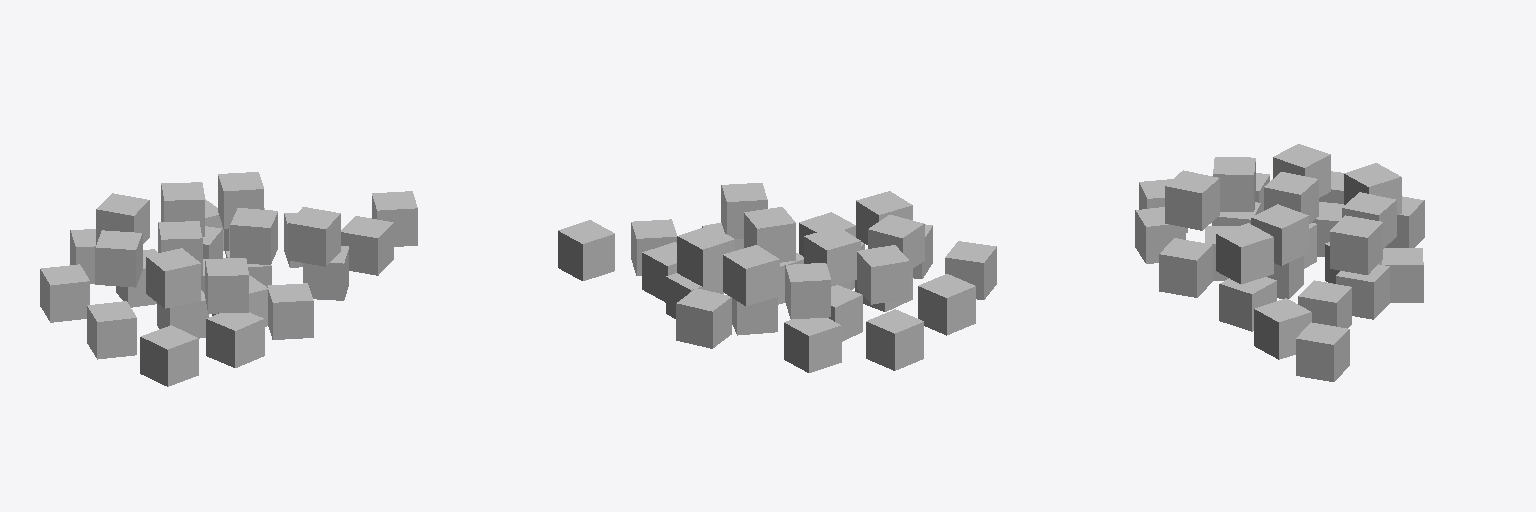
Rendered from potato_chop_3.obj.
3 renders of one model, left to right at view 1: azimuth 30°, elevation 25°; view 2: azimuth 150°, elevation 25°; view 3: azimuth 270°, elevation 25°, orthographic.
Parts seen in each view (by area): view 1: group5 Potatoe_chop_3 Potatoe1 pCube43, group5 Potatoe_chop_3 Potatoe1 pCube28, group5 Potatoe_chop_3 Potatoe1 pCube41, group5 Potatoe_chop_3 Potatoe1 pCube82, group5 Potatoe_chop_3 Potatoe1 pCube40, group5 Potatoe_chop_3 Potatoe1 pCube37, group5 Potatoe_chop_3 Potatoe1 pCube38, group5 Potatoe_chop_3 Potatoe1 pCube81, group5 Potatoe_chop_3 Potatoe1 pCube29, group5 Potatoe_chop_3 Potatoe1 pCube76, group5 Potatoe_chop_3 Potatoe1 pCube42, group5 Potatoe_chop_3 Potatoe1 pCube36 (+10 smaller); view 2: group5 Potatoe_chop_3 Potatoe1 pCube37, group5 Potatoe_chop_3 Potatoe1 pCube40, group5 Potatoe_chop_3 Potatoe1 pCube44, group5 Potatoe_chop_3 Potatoe1 pCube80, group5 Potatoe_chop_3 Potatoe1 pCube46, group5 Potatoe_chop_3 Potatoe1 pCube79, group5 Potatoe_chop_3 Potatoe1 pCube38, pCube83 group5 Potatoe_chop_3 Potatoe1, group5 Potatoe_chop_3 Potatoe1 pCube36, group5 Potatoe_chop_3 Potatoe1 pCube39, group5 Potatoe_chop_3 Potatoe1 pCube76, group5 Potatoe_chop_3 Potatoe1 pCube43 (+9 smaller); view 3: group5 Potatoe_chop_3 Potatoe1 pCube82, group5 Potatoe_chop_3 Potatoe1 pCube42, group5 Potatoe_chop_3 Potatoe1 pCube29, group5 Potatoe_chop_3 Potatoe1 pCube80, pCube83 group5 Potatoe_chop_3 Potatoe1, group5 Potatoe_chop_3 Potatoe1 pCube81, group5 Potatoe_chop_3 Potatoe1 pCube76, group5 Potatoe_chop_3 Potatoe1 pCube77, group5 Potatoe_chop_3 Potatoe1 pCube41, group5 Potatoe_chop_3 Potatoe1 pCube46, group5 Potatoe_chop_3 Potatoe1 pCube78, group5 Potatoe_chop_3 Potatoe1 pCube45 (+10 smaller).
Part boxes in pixels (x1,y1,x2,y2): group5 Potatoe_chop_3 Potatoe1 pCube43: (140, 325, 198, 386); group5 Potatoe_chop_3 Potatoe1 pCube28: (206, 312, 264, 367); group5 Potatoe_chop_3 Potatoe1 pCube41: (146, 248, 200, 308); group5 Potatoe_chop_3 Potatoe1 pCube82: (288, 207, 340, 266); group5 Potatoe_chop_3 Potatoe1 pCube40: (87, 301, 136, 359); group5 Potatoe_chop_3 Potatoe1 pCube37: (40, 264, 89, 322); group5 Potatoe_chop_3 Potatoe1 pCube38: (95, 230, 142, 287); group5 Potatoe_chop_3 Potatoe1 pCube81: (341, 216, 393, 275); group5 Potatoe_chop_3 Potatoe1 pCube29: (267, 283, 313, 339); group5 Potatoe_chop_3 Potatoe1 pCube76: (230, 208, 277, 264); group5 Potatoe_chop_3 Potatoe1 pCube42: (205, 258, 248, 313); group5 Potatoe_chop_3 Potatoe1 pCube36: (96, 193, 149, 244); group5 Potatoe_chop_3 Potatoe1 pCube37: (866, 309, 923, 370); group5 Potatoe_chop_3 Potatoe1 pCube40: (918, 274, 975, 335); group5 Potatoe_chop_3 Potatoe1 pCube44: (723, 245, 779, 305); group5 Potatoe_chop_3 Potatoe1 pCube80: (558, 220, 614, 280); group5 Potatoe_chop_3 Potatoe1 pCube46: (676, 288, 731, 348); group5 Potatoe_chop_3 Potatoe1 pCube79: (784, 318, 841, 372); group5 Potatoe_chop_3 Potatoe1 pCube38: (857, 245, 909, 304); pCube83 group5 Potatoe_chop_3 Potatoe1: (677, 225, 734, 286); group5 Potatoe_chop_3 Potatoe1 pCube36: (785, 263, 830, 319); group5 Potatoe_chop_3 Potatoe1 pCube39: (804, 227, 860, 286); group5 Potatoe_chop_3 Potatoe1 pCube76: (744, 207, 795, 262); group5 Potatoe_chop_3 Potatoe1 pCube43: (945, 241, 996, 299); group5 Potatoe_chop_3 Potatoe1 pCube82: (1216, 223, 1273, 284); group5 Potatoe_chop_3 Potatoe1 pCube42: (1165, 170, 1219, 230); group5 Potatoe_chop_3 Potatoe1 pCube29: (1159, 238, 1212, 297); group5 Potatoe_chop_3 Potatoe1 pCube80: (1296, 322, 1349, 381); pCube83 group5 Potatoe_chop_3 Potatoe1: (1330, 215, 1382, 274); group5 Potatoe_chop_3 Potatoe1 pCube81: (1254, 298, 1311, 359); group5 Potatoe_chop_3 Potatoe1 pCube76: (1251, 204, 1308, 265); group5 Potatoe_chop_3 Potatoe1 pCube77: (1219, 277, 1276, 331); group5 Potatoe_chop_3 Potatoe1 pCube41: (1213, 157, 1255, 211); group5 Potatoe_chop_3 Potatoe1 pCube46: (1382, 248, 1423, 302); group5 Potatoe_chop_3 Potatoe1 pCube78: (1298, 280, 1351, 328); group5 Potatoe_chop_3 Potatoe1 pCube45: (1336, 264, 1389, 319).
Bounding box in the file's own units: 0.5718 × 0.1214 × 0.3902.